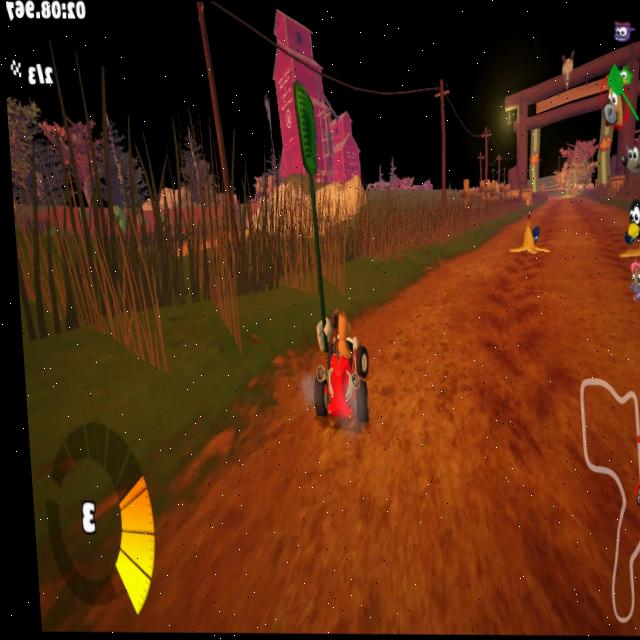obstacle: (512, 215, 548, 255)
player_kart: (306, 308, 378, 429)
track: (364, 257, 578, 640), (147, 483, 389, 640), (550, 215, 608, 636), (580, 199, 635, 639), (608, 210, 640, 637), (178, 432, 379, 480), (266, 356, 308, 436), (634, 249, 640, 637), (486, 226, 512, 257), (546, 189, 570, 209), (568, 188, 581, 218), (536, 203, 544, 213)
